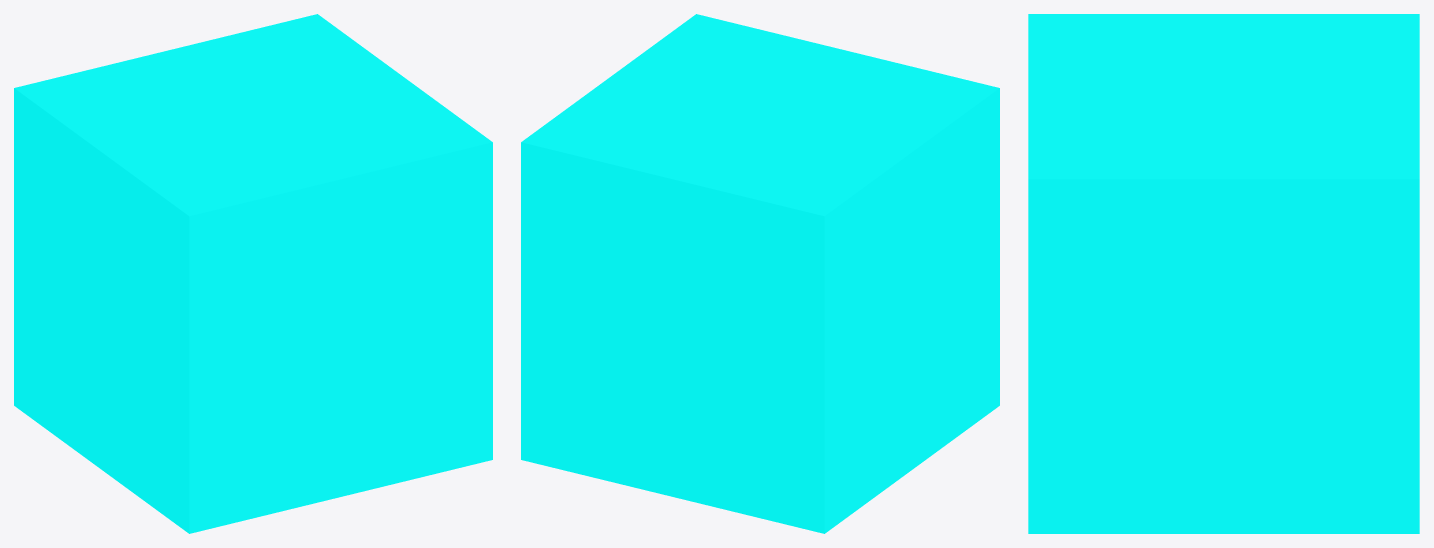
The picture shows the model from 3 angles, left to right: view 1: azimuth 30°, elevation 25°; view 2: azimuth 150°, elevation 25°; view 3: azimuth 270°, elevation 25°; orthographic projection. The views are drawn at different scales.
Parts seen in each view (by area): view 1: Cube.001; view 2: Cube.001; view 3: Cube.001.
Part boxes in pixels (left/top/right/bottom): Cube.001: left=14, top=14, right=492, bottom=533; Cube.001: left=521, top=14, right=999, bottom=533; Cube.001: left=1028, top=14, right=1419, bottom=533.
Bounding box in the file's own units: 8 × 8.13 × 8.
